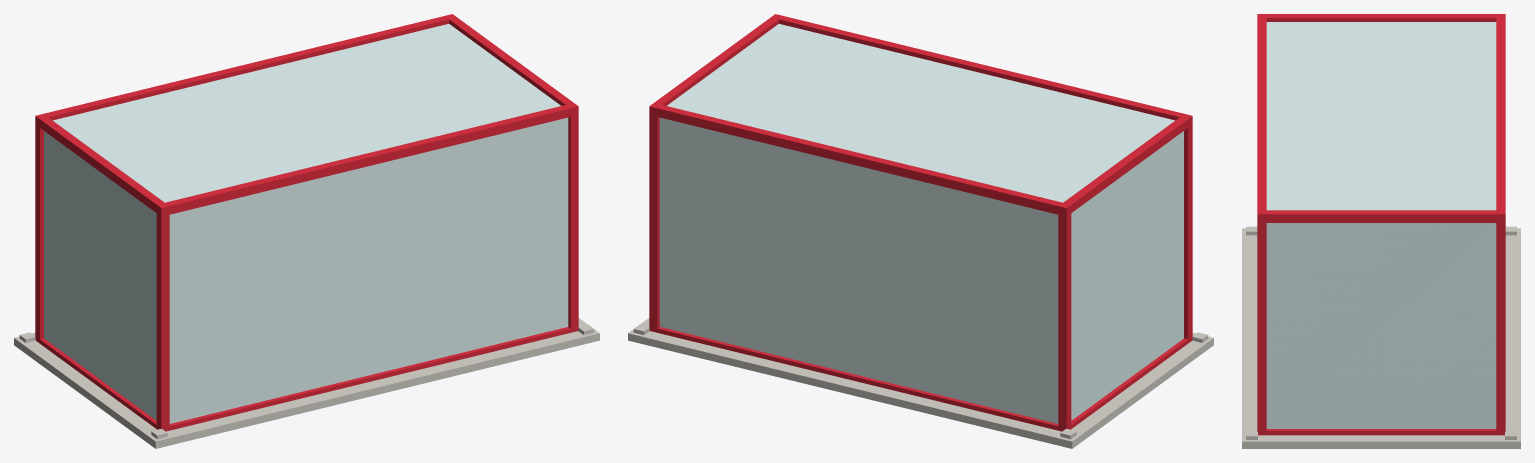
File: udirdlagatai-kovsh.glb
The picture shows the model from 3 angles, left to right: view 1: azimuth 30°, elevation 25°; view 2: azimuth 150°, elevation 25°; view 3: azimuth 270°, elevation 25°; orthographic projection.
Bounding box in the file's own units: 0.38 × 0.1895 × 0.21.
